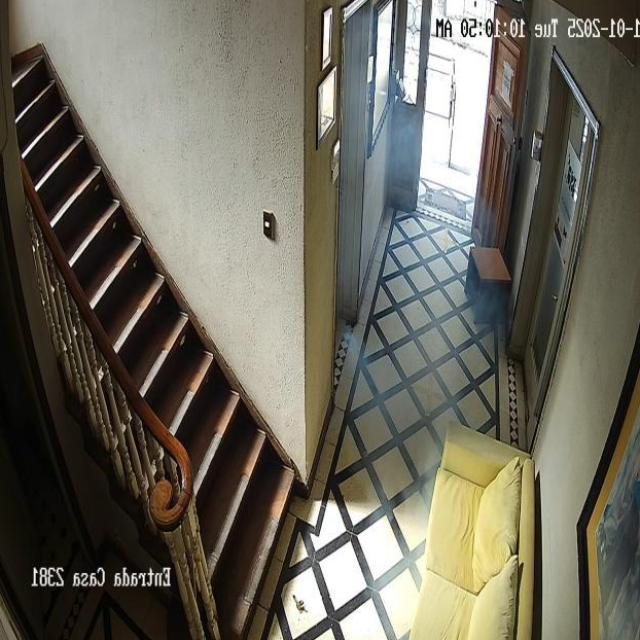fire: (340, 7, 520, 640)
